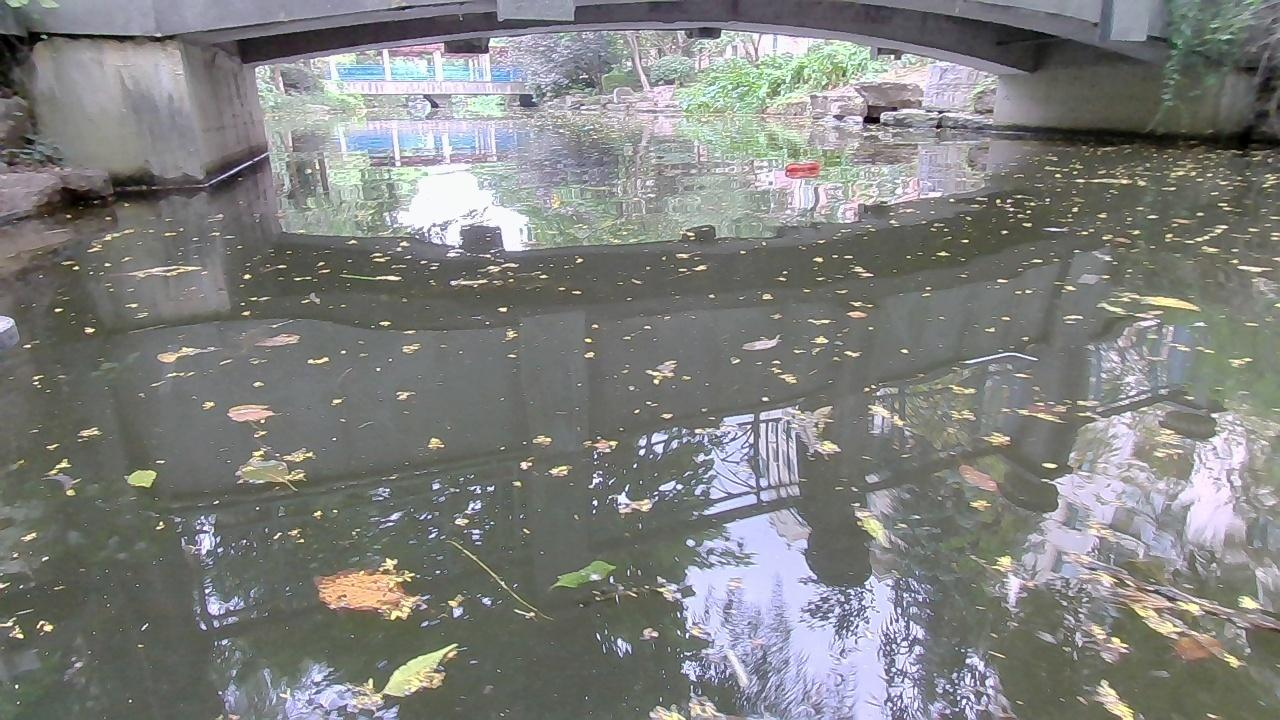bottle: (784, 157, 819, 172)
